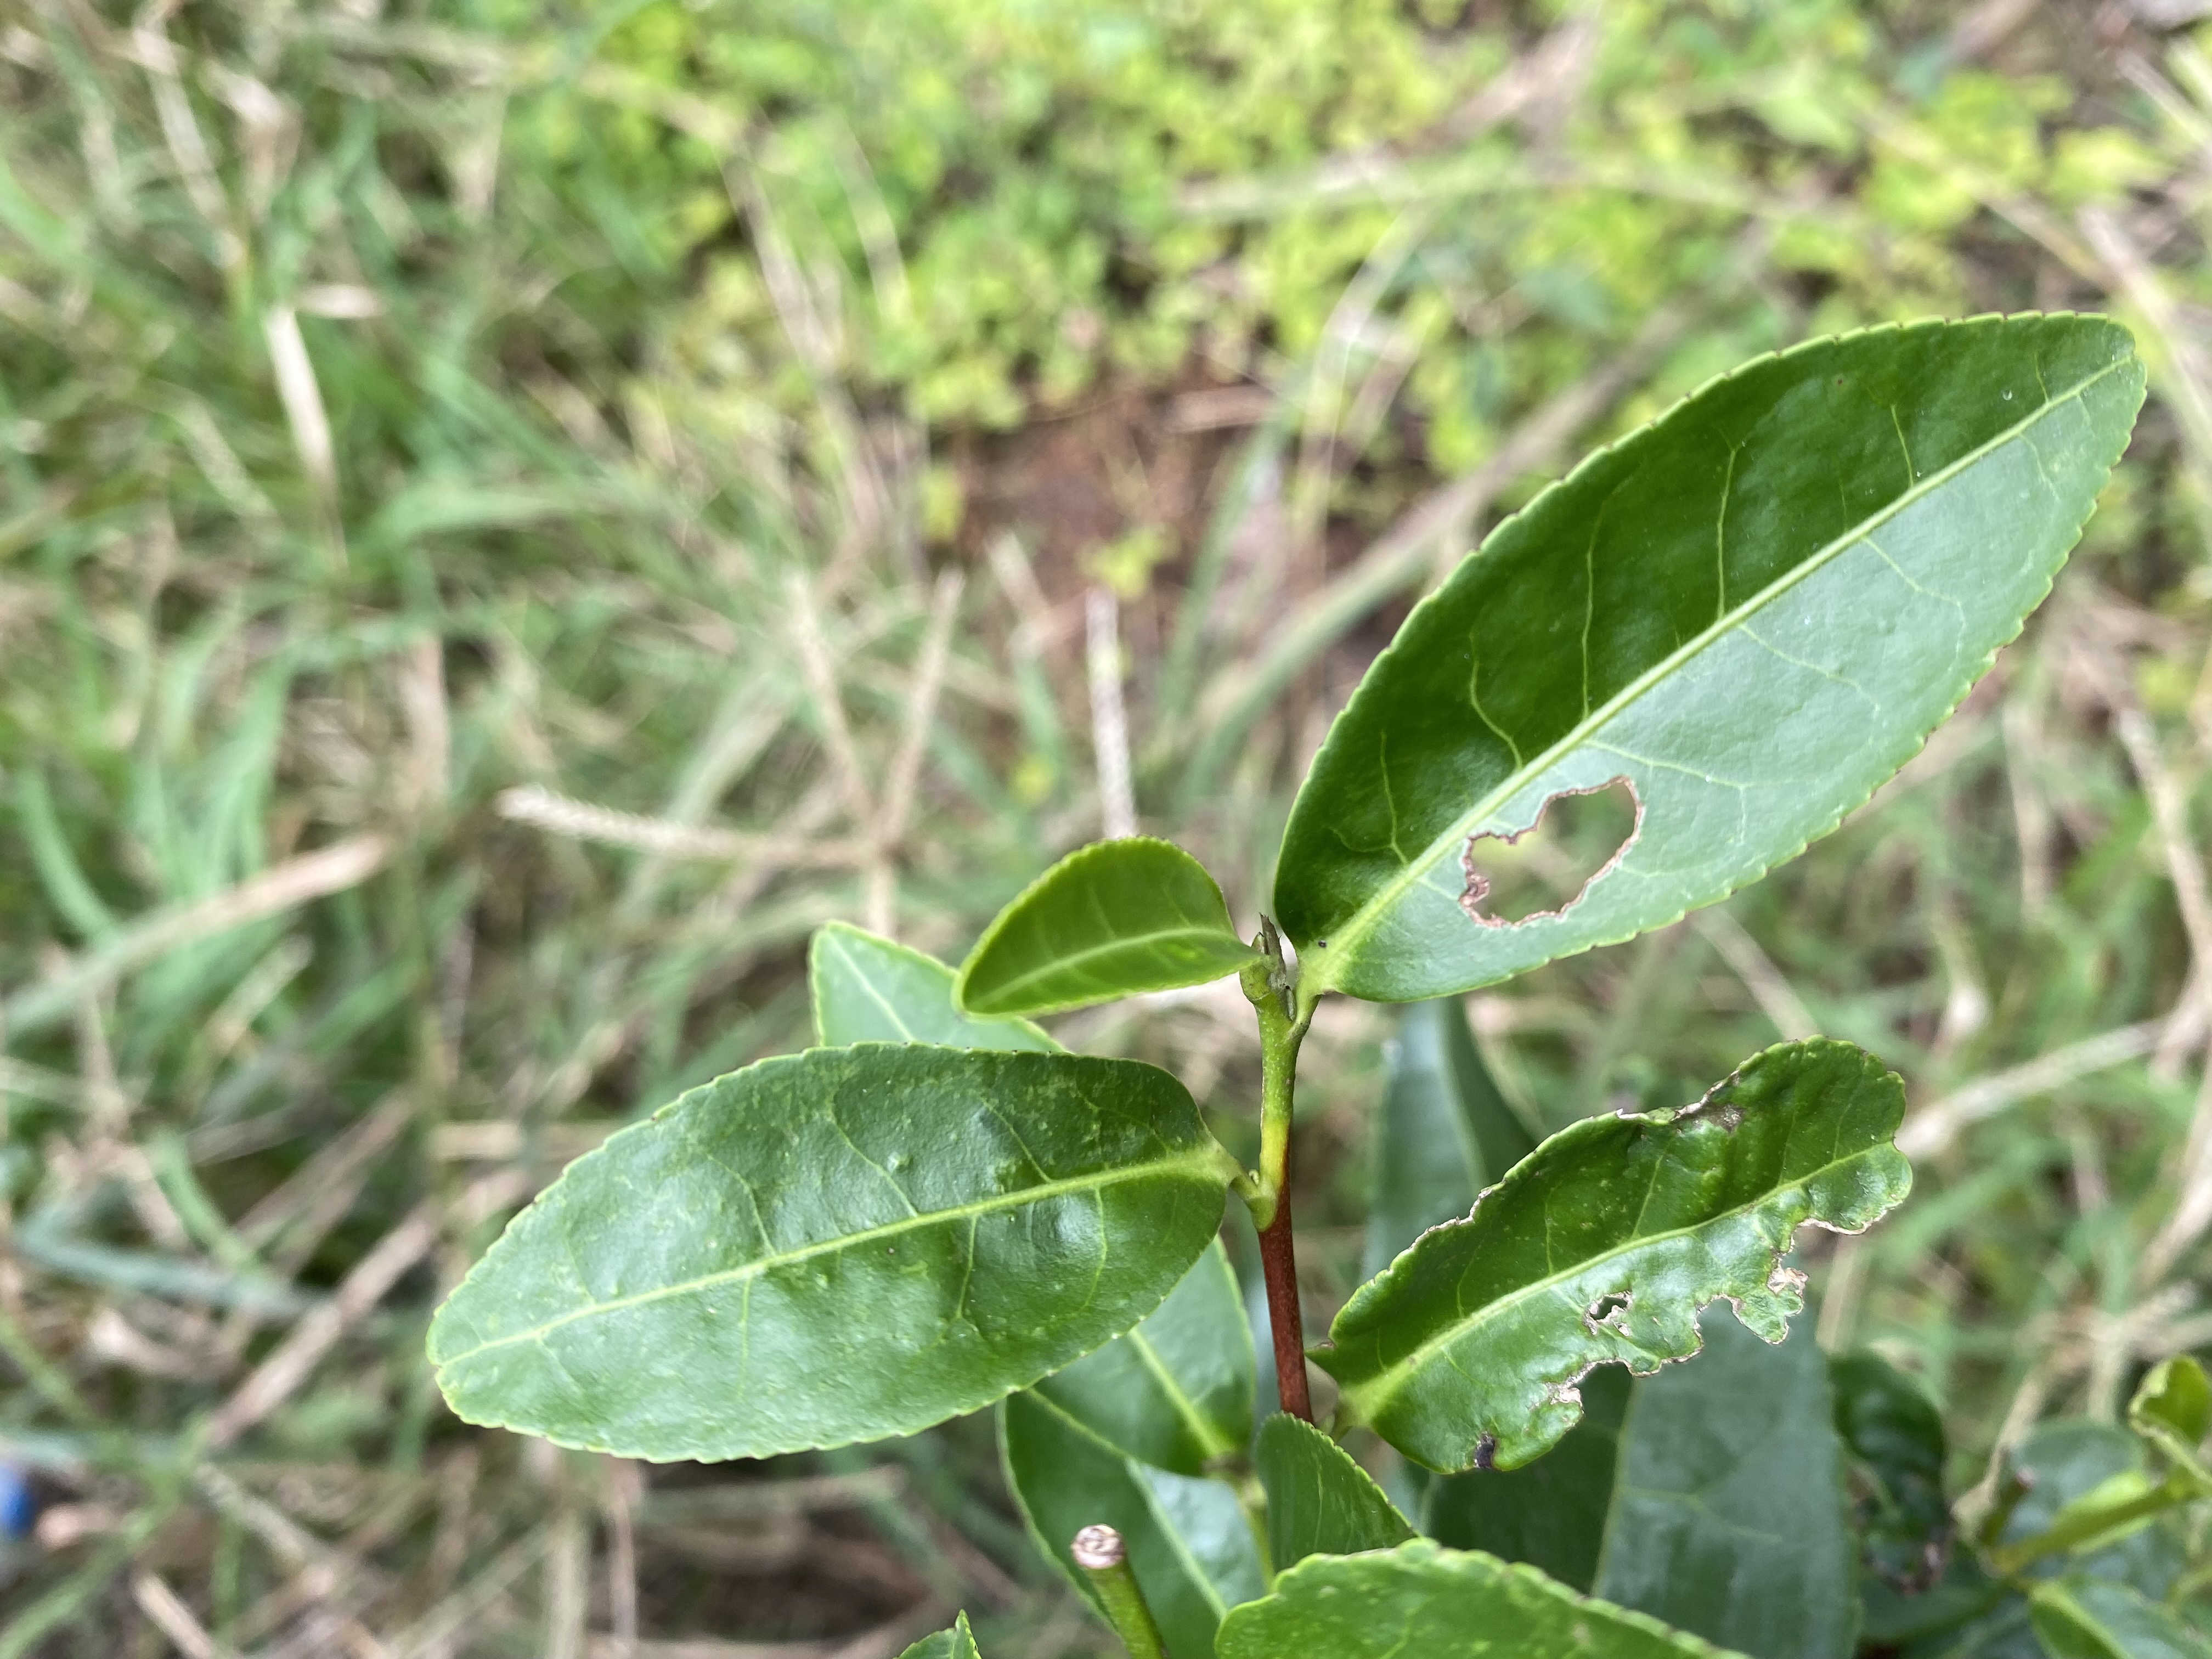chihuo_high: (1306, 1035, 1919, 1474)
chihuo_low: (1275, 310, 2146, 1011)
healthy: (425, 1042, 1230, 1469), (949, 838, 1271, 1016)
